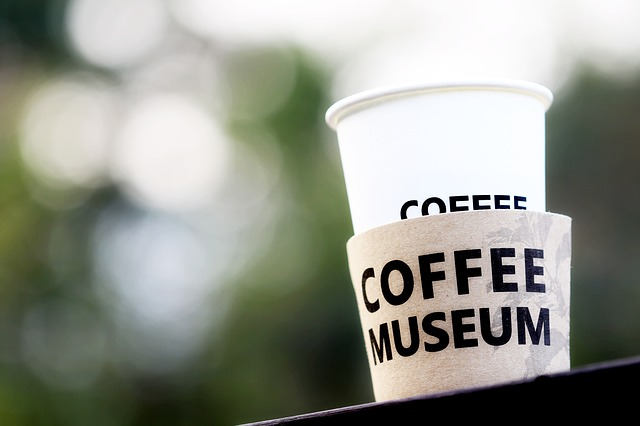cup: (316, 69, 576, 398)
